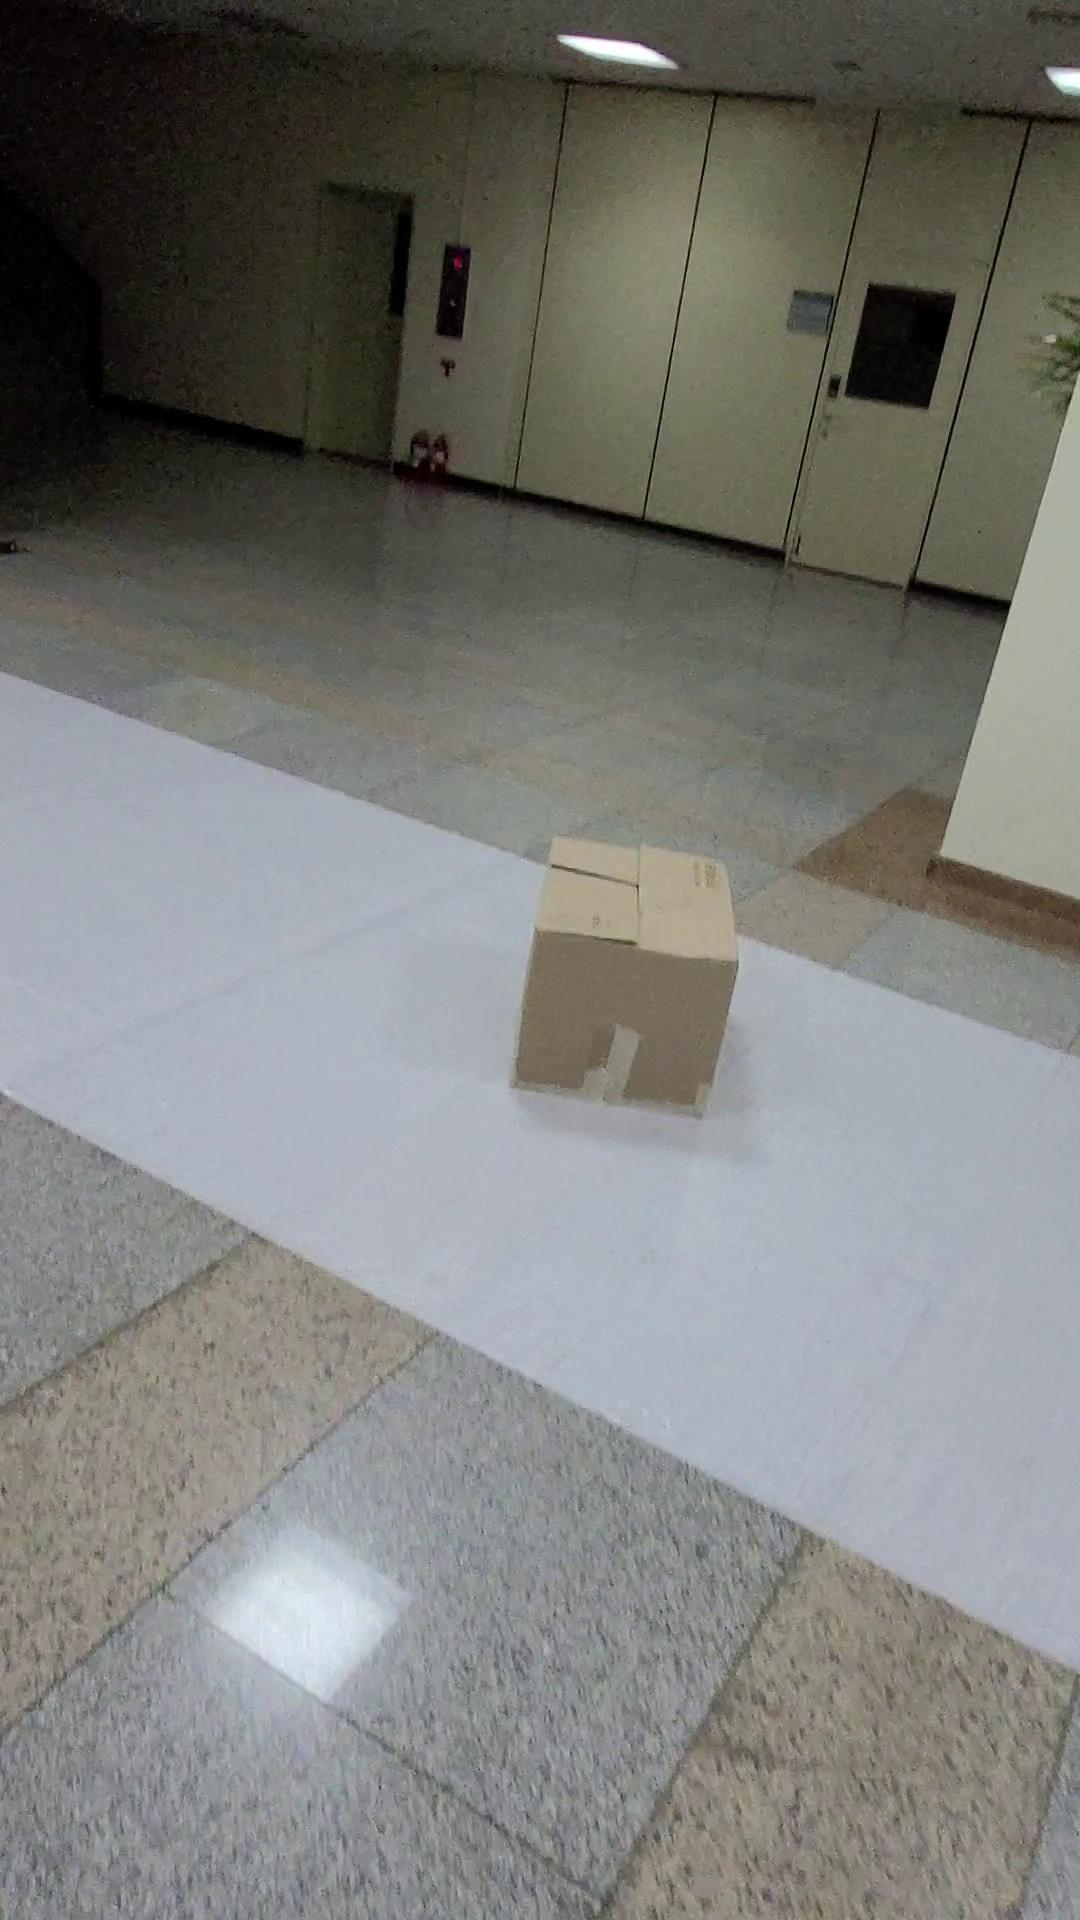Box: (465, 808, 771, 1139)
